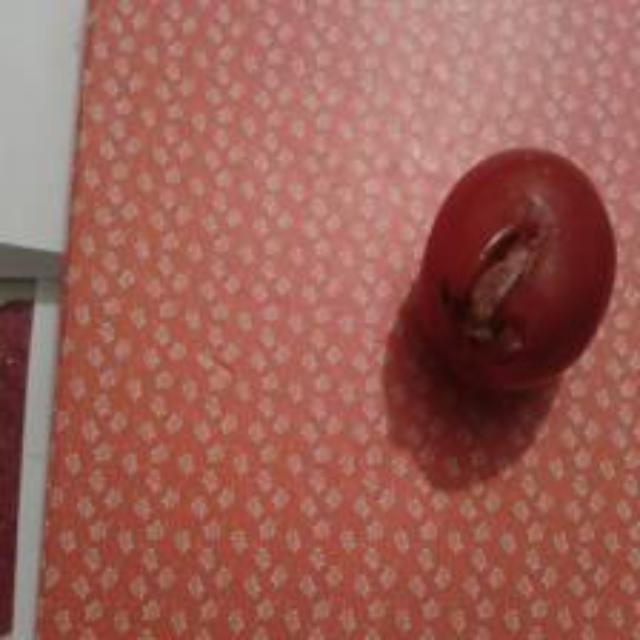defect: (418, 139, 622, 404)
